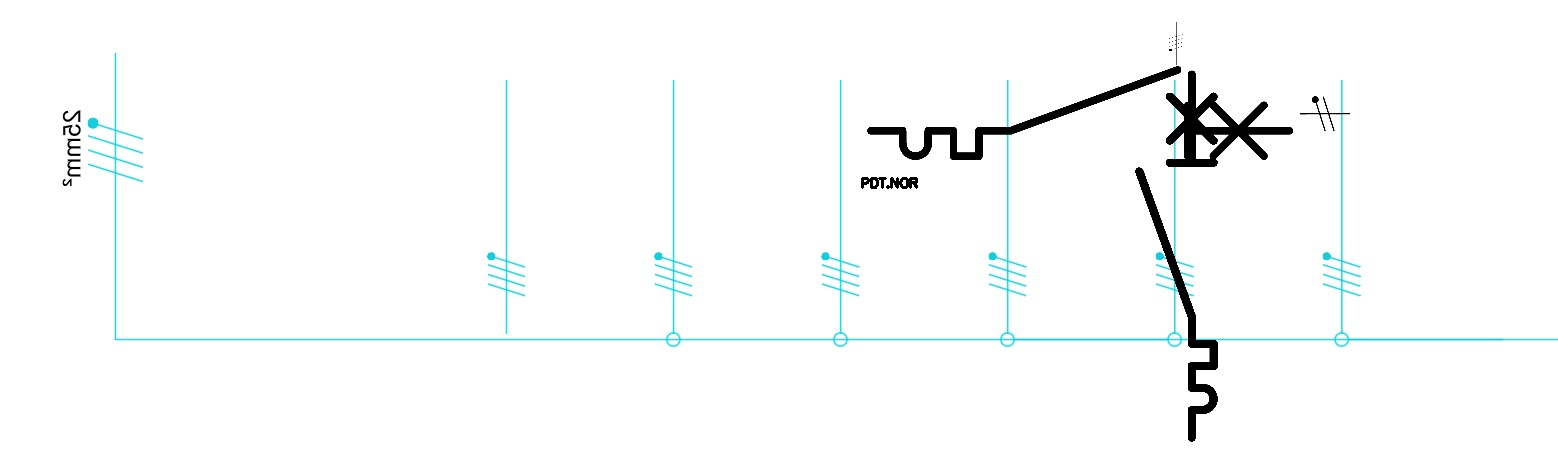interruptor_termomagnetico: (860, 59, 1300, 167), (1130, 65, 1223, 447)
